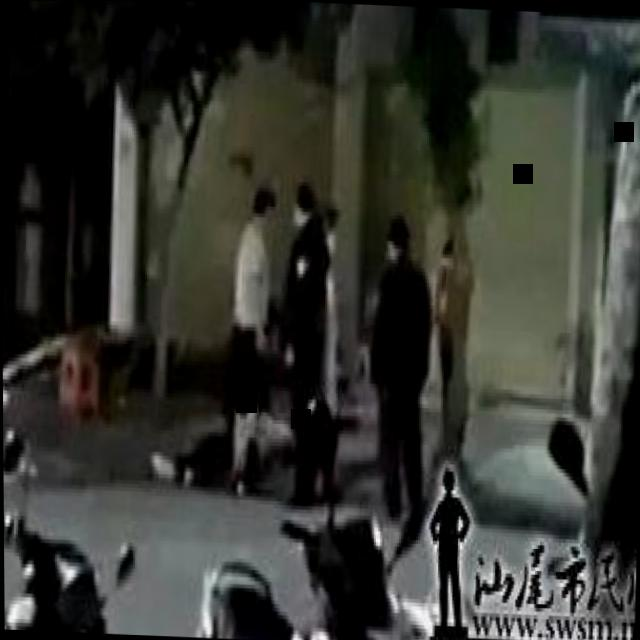Fall-Detected: (141, 384, 295, 501)
